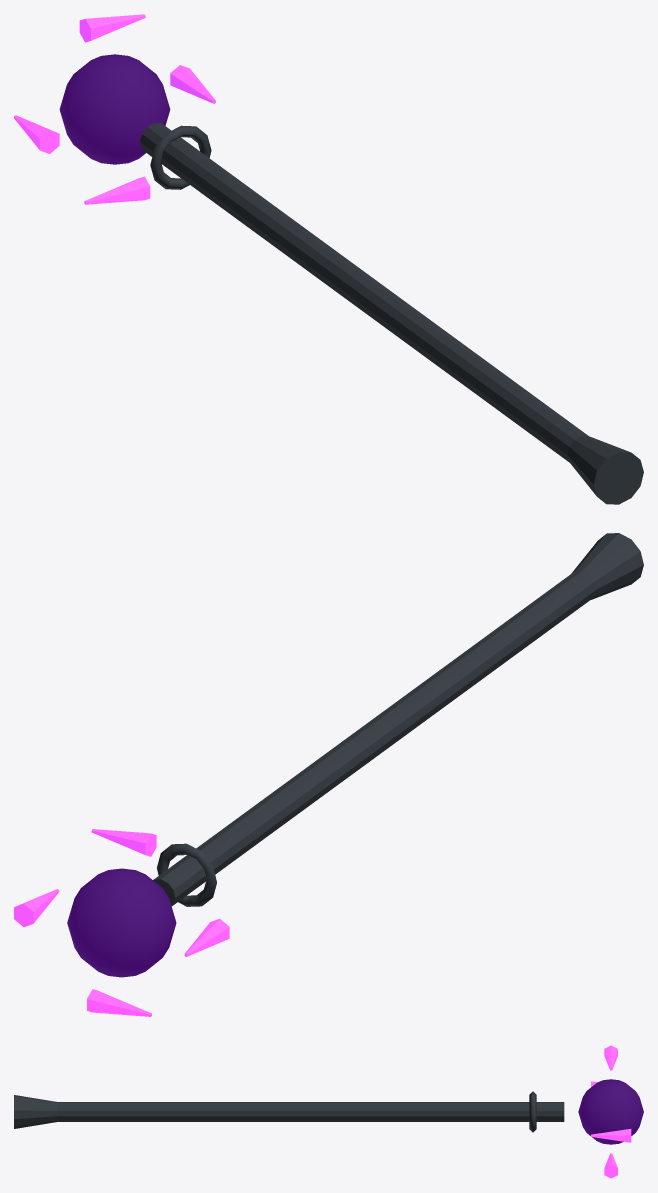
The model's file is WPN_Staff_Singularity_TP_v01.glb.
3 renders of one model, top to bottom at view 1: azimuth 30°, elevation 25°; view 2: azimuth 150°, elevation 25°; view 3: azimuth 270°, elevation 25°, orthographic. The views are drawn at different scales.
Visible parts, largest first — view 1: MESH_Weapon, MESH_SingularityCore, MESH_OrbitShards; view 2: MESH_Weapon, MESH_SingularityCore, MESH_OrbitShards; view 3: MESH_Weapon, MESH_SingularityCore, MESH_OrbitShards.
Part boxes in pixels (x1,y1,x2,y2): MESH_Weapon: (140,123,643,504); MESH_SingularityCore: (59,54,170,164); MESH_OrbitShards: (14,14,215,204); MESH_Weapon: (153,533,643,906); MESH_SingularityCore: (67,868,176,977); MESH_OrbitShards: (14,829,229,1016); MESH_Weapon: (14,1091,564,1132); MESH_SingularityCore: (578,1079,643,1144); MESH_OrbitShards: (591,1045,631,1178).
Size of the model in its own units: 0.4033 by 0.41 by 2.01.
